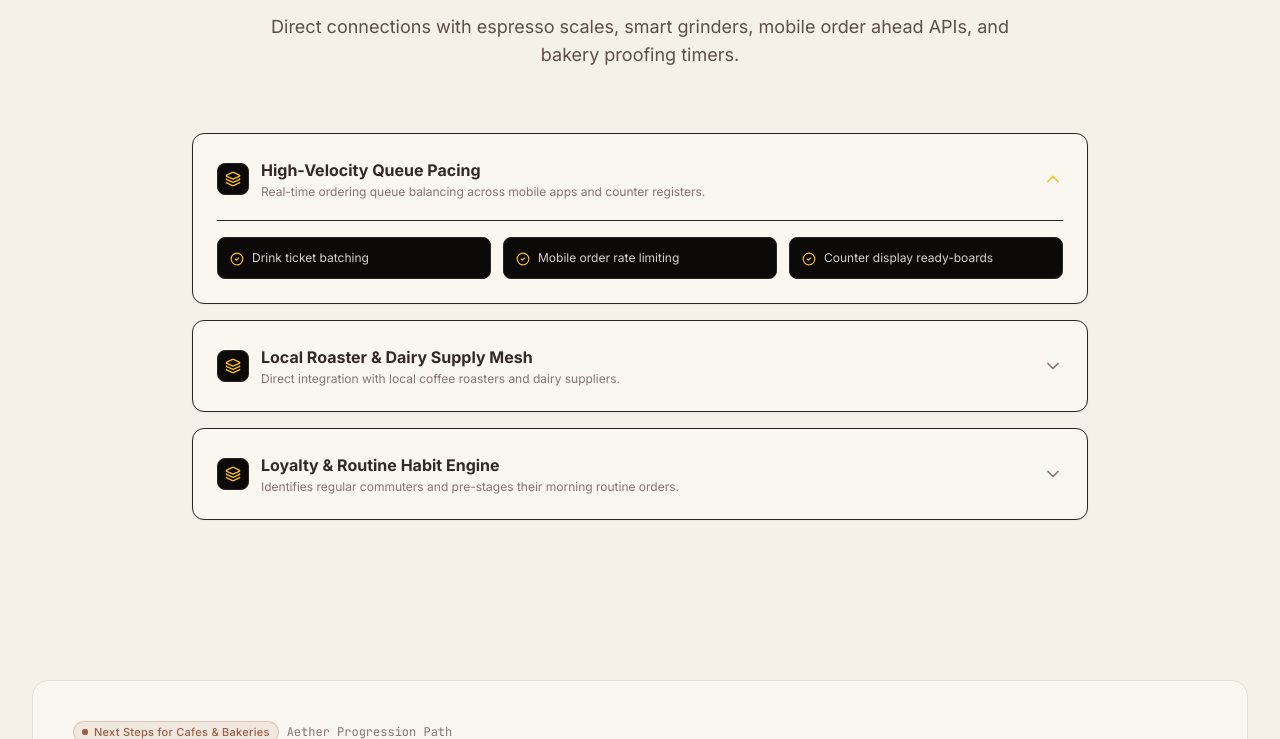
Test: CafeExperience › toggles accordion items in additional capabilities
(page scrolled)
Expected: the heading "High-Velocity Queue Pacing" is shown, [261,160,481,180]
Toggle second accordion item
Click the button "Local Roaster & Dairy Supply Mesh".
click(233, 366)  # box [217,344,1063,386]
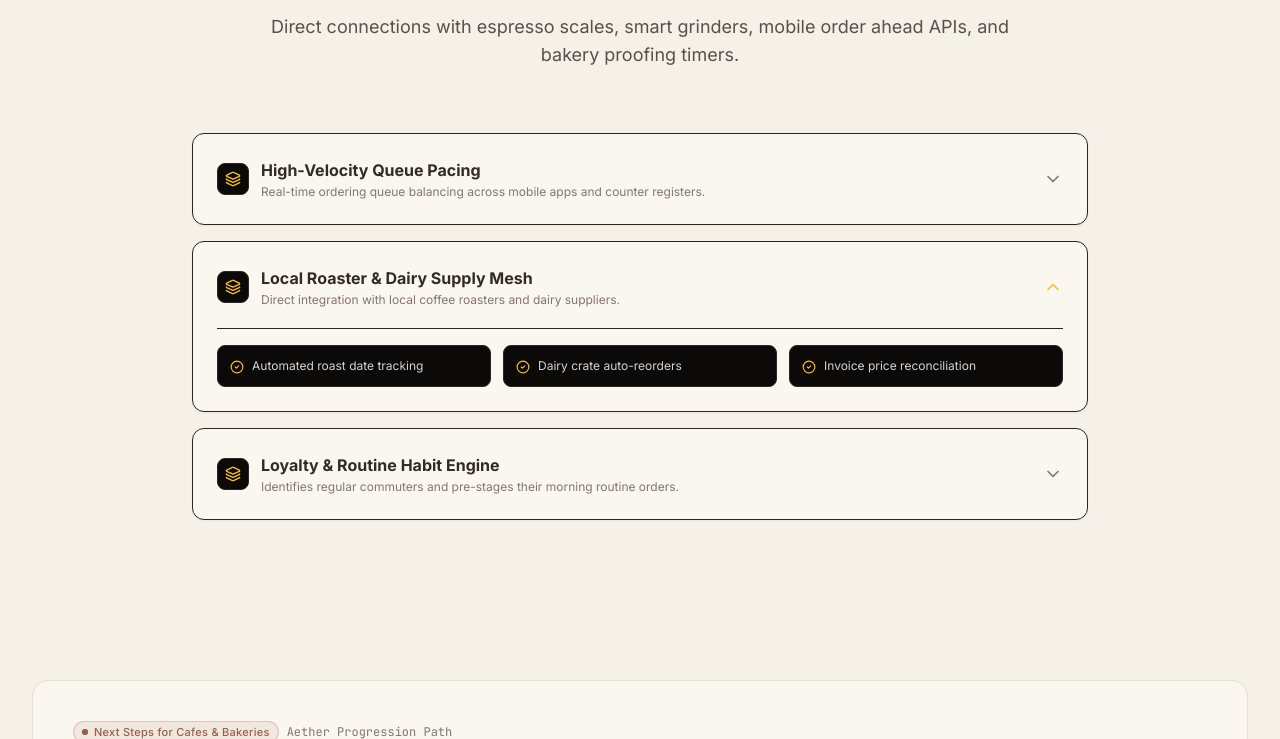
Expected: the text "Automated roast date tracking" is shown, [252,358,423,374]
